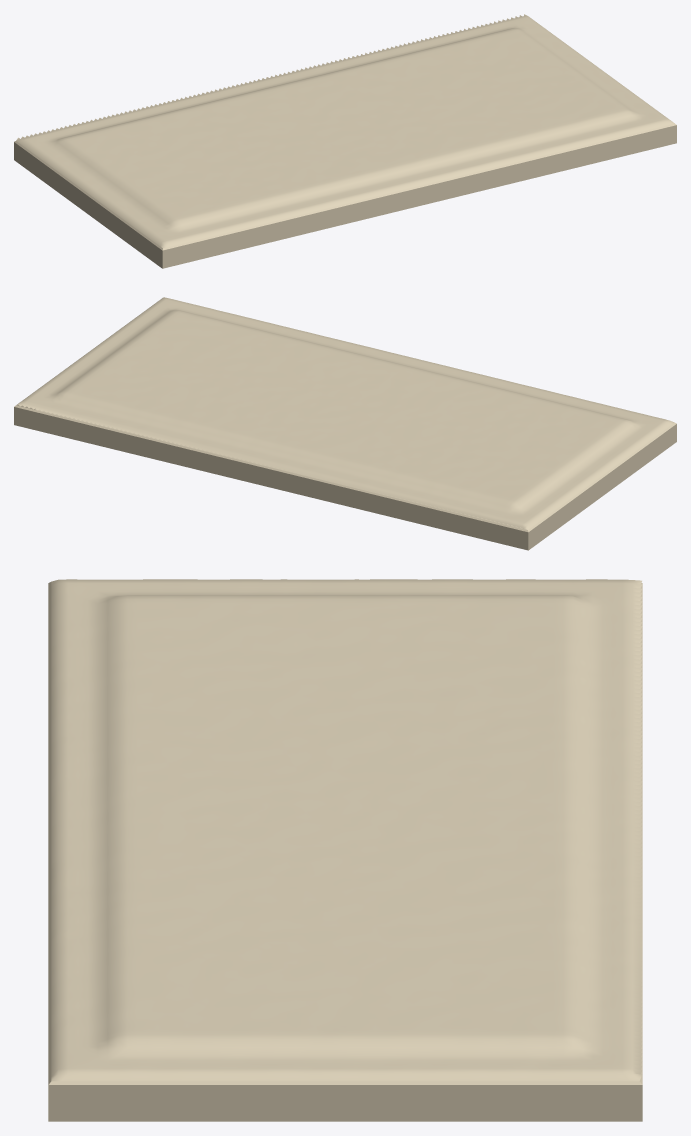
Rendered from mahsulot.glb.
The picture shows the model from 3 angles, top to bottom: view 1: azimuth 30°, elevation 25°; view 2: azimuth 150°, elevation 25°; view 3: azimuth 270°, elevation 25°; orthographic projection. The views are drawn at different scales.
Visible parts, largest first — view 1: mahsulot; view 2: mahsulot; view 3: mahsulot.
Part boxes in pixels (x1=…): mahsulot: x1=14, y1=14, x2=676, y2=268; mahsulot: x1=14, y1=297, x2=676, y2=550; mahsulot: x1=48, y1=579, x2=642, y2=1121.
Size of the model in its own units: 0.6 by 0.0299 by 0.3.
